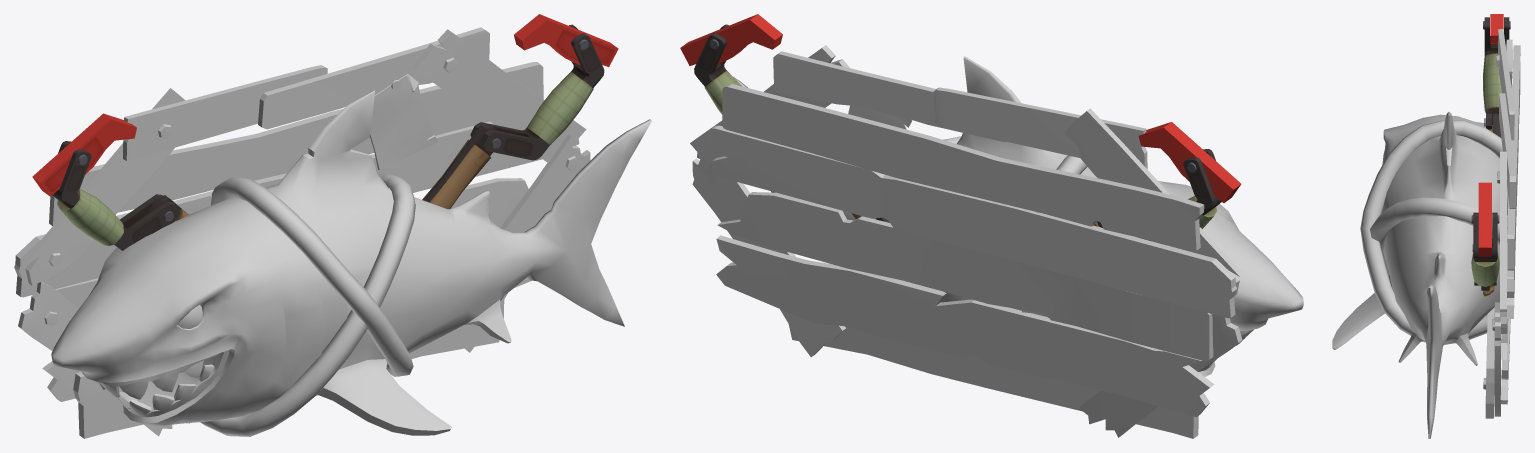
Rendered from obj_interactive_raftshark_off.fbx.
3 views of the same model, side by side, from view 1: azimuth 30°, elevation 25°; view 2: azimuth 150°, elevation 25°; view 3: azimuth 270°, elevation 25° (orthographic). The views are drawn at different scales.
Parts seen in each view (by area): view 1: Shark_off; view 2: Shark_off; view 3: Shark_off.
Part boxes in pixels (x1=…): Shark_off: x1=14, y1=14, x2=651, y2=438; Shark_off: x1=680, y1=14, x2=1303, y2=438; Shark_off: x1=1332, y1=14, x2=1520, y2=438.
Size of the model in its own units: 7.47 by 3.98 by 2.53.
